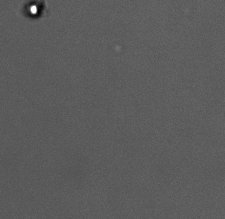Living Cell: (23, 1, 43, 18)
